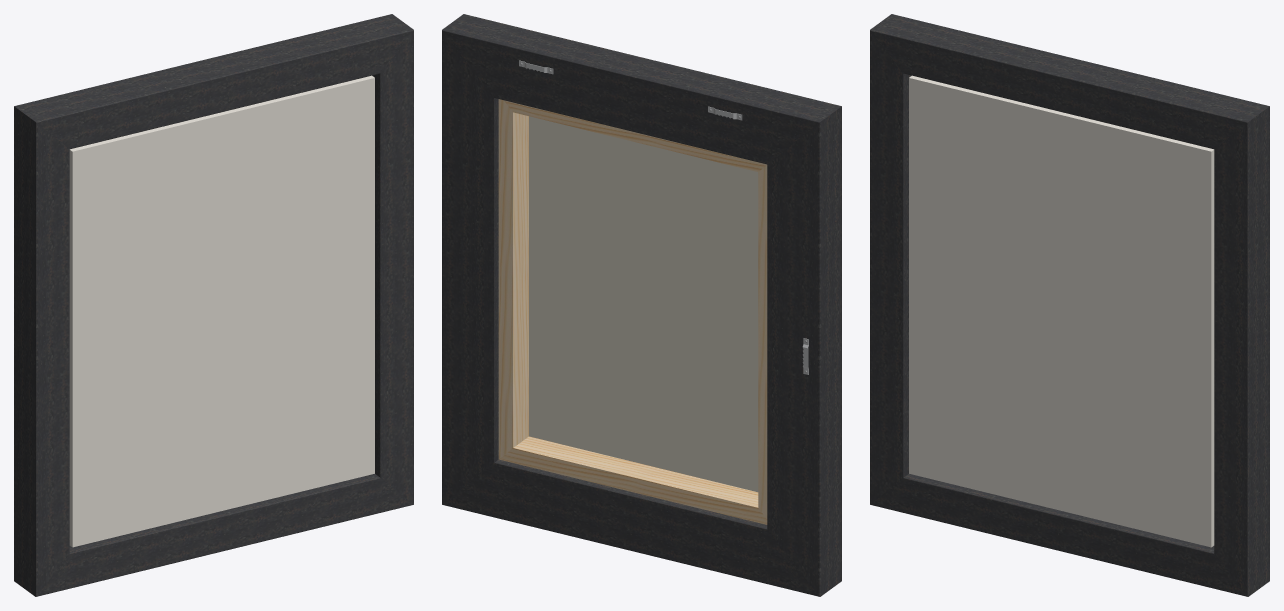
Rendered from delivery.glb.
The picture shows the model from 3 angles, left to right: view 1: azimuth 30°, elevation 25°; view 2: azimuth 150°, elevation 25°; view 3: azimuth 330°, elevation 25°; orthographic projection.
Visible parts, largest first — view 1: Canvas artwork front, Tray approved profile 0; view 2: Tray approved profile 0, Canvas linen reverse, Stretcher top, Sawtooth hanger 0; view 3: Canvas artwork front, Tray approved profile 0.
Boxes of the visible parts, left/top/right/bottom form: Canvas artwork front: left=69, top=75, right=374, bottom=547; Tray approved profile 0: left=14, top=14, right=413, bottom=596; Tray approved profile 0: left=442, top=14, right=841, bottom=596; Canvas linen reverse: left=529, top=116, right=758, bottom=492; Stretcher top: left=498, top=99, right=767, bottom=524; Sawtooth hanger 0: left=519, top=60, right=808, bottom=374; Canvas artwork front: left=909, top=75, right=1214, bottom=547; Tray approved profile 0: left=870, top=14, right=1269, bottom=596.
Bounding box in the file's own units: 0.5 × 0.6 × 0.0534.
7 materials, 3 textured.
